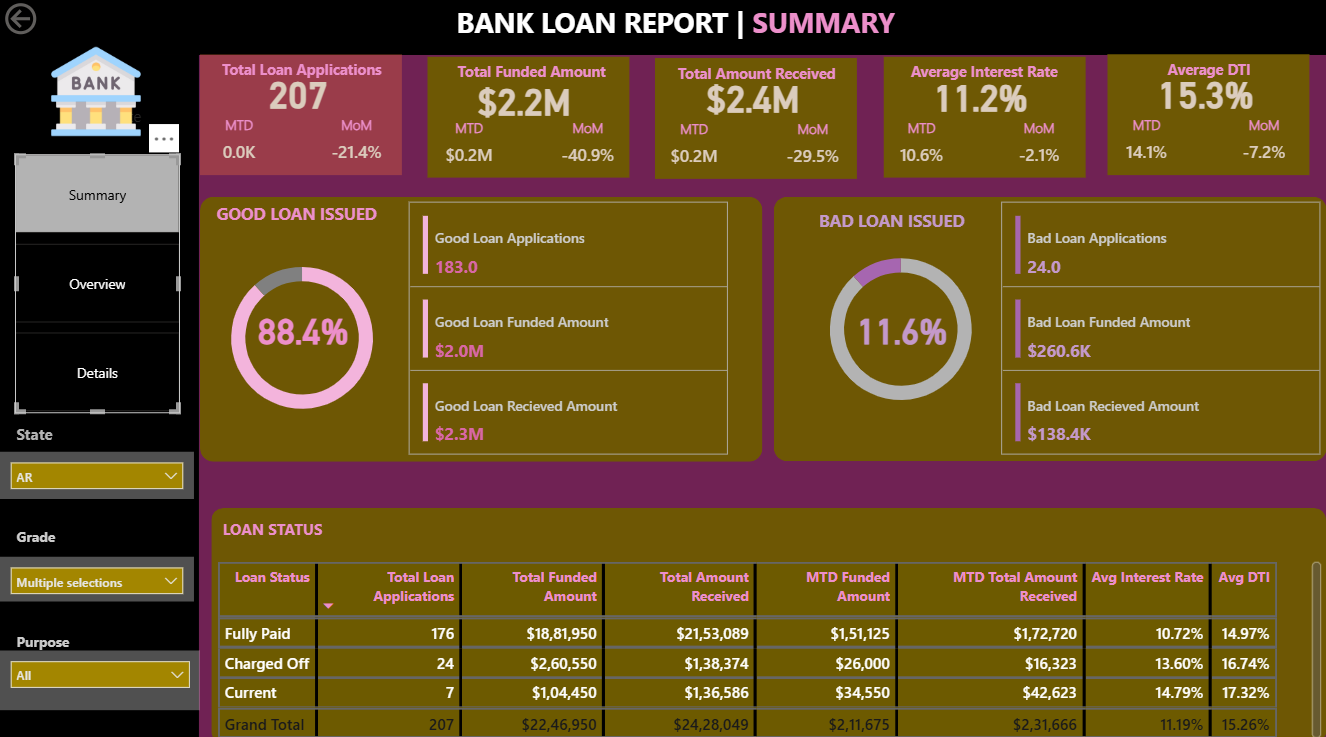

What the dashboard file says about the page in this screenshot:
{"tool":"powerbi","page":{"name":"Summary","canvas":[1280,720],"ordinal":0},"visuals":[{"type":"shape","box":[193.5,54.9,194.9,116.6],"z":0,"group":"g1"},{"type":"shape","box":[1069,54.9,194.9,116.6],"z":0,"group":"g5"},{"type":"shape","box":[412.5,56.3,194.9,116.6],"z":0,"group":"g2"},{"type":"shape","box":[852.9,56.3,194.9,116.6],"z":0,"group":"g3"},{"type":"shape","box":[632.6,57.8,194.9,116.6],"z":0,"group":"g4"},{"type":"shape","box":[746.5,192.1,533.8,255.2],"z":0},{"type":"card","fields":{"Values":["bank_loan_data.Total Loan Applications"]},"box":[193.5,54.9,189.4,74.1],"z":1000,"group":"g1"},{"type":"card","fields":{"Values":["bank_loan_data.Avg DTI"]},"box":[1069,54.9,189.4,74.1],"z":1000,"group":"g5"},{"type":"card","fields":{"Values":["bank_loan_data.Avg Interest Rate"]},"box":[851.5,56.3,189.4,74.1],"z":1000,"group":"g3"},{"type":"card","fields":{"Values":["bank_loan_data.Total Amount Received"]},"box":[633.2,57.6,189.4,74.1],"z":1000,"group":"g4"},{"type":"card","fields":{"Values":["bank_loan_data.Total Funded Amount"]},"box":[411,60.1,189.4,74.1],"z":1000,"group":"g2"},{"type":"shape","box":[193,191.8,542.9,255.8],"z":1000},{"type":"shape","box":[0,0,1280.3,55],"z":2000},{"type":"textbox","box":[193.5,54.9,196.2,34.3],"z":2000,"group":"g1"},{"type":"textbox","box":[1069,54.9,196.2,34.3],"z":2000,"group":"g5"},{"type":"textbox","box":[415.2,56.3,196.2,34.3],"z":2000,"group":"g2"},{"type":"textbox","box":[851.5,56.3,196.2,34.3],"z":2000,"group":"g3"},{"type":"textbox","box":[633.2,57.6,196.2,34.3],"z":2000,"group":"g4"},{"type":"shape","box":[0,54.9,192,665.5],"z":3000},{"type":"card","title":"MTD","fields":{"Values":["bank_loan_data.MTD Loan Applications"]},"box":[193.5,113.9,75.5,57.6],"z":3000,"group":"g1"},{"type":"card","title":"MTD","fields":{"Values":["bank_loan_data.MTD Avg DTI"]},"box":[1069,113.9,75.5,57.6],"z":3000,"group":"g5"},{"type":"card","title":"MTD","fields":{"Values":["bank_loan_data.MTD Funded Amount"]},"box":[415.2,115.3,75.5,57.6],"z":3000,"group":"g2"},{"type":"card","title":"MTD","fields":{"Values":["bank_loan_data.MTD Avg Int Rate"]},"box":[851.5,115.3,75.5,57.6],"z":3000,"group":"g3"},{"type":"card","title":"MTD","fields":{"Values":["bank_loan_data.MTD Total Amount Received"]},"box":[633.2,116.6,75.5,57.6],"z":3000,"group":"g4"},{"type":"card","title":"MoM","fields":{"Values":["bank_loan_data.MoM Loan Applications"]},"box":[307.4,113.9,75.5,57.6],"z":4000,"group":"g1"},{"type":"card","title":"MoM","fields":{"Values":["bank_loan_data.MoM Avg DTI"]},"box":[1182.9,113.9,75.5,57.6],"z":4000,"group":"g5"},{"type":"card","title":"MoM","fields":{"Values":["bank_loan_data.MoM Total Funded Amount"]},"box":[529.1,115.3,75.5,57.6],"z":4000,"group":"g2"},{"type":"card","title":"MoM","fields":{"Values":["bank_loan_data.MoM Avg Int Rate"]},"box":[965.4,115.3,75.5,57.6],"z":4000,"group":"g3"},{"type":"card","title":"MoM","fields":{"Values":["bank_loan_data.MoM Total Amount Received"]},"box":[747.1,116.6,75.5,57.6],"z":4000,"group":"g4"},{"type":"card","fields":{"Values":["bank_loan_data.Good Loan %"]},"box":[237.4,299.1,109.8,41.2],"z":4000},{"type":"textbox","box":[435,0,455.6,46.7],"z":5000},{"type":"group","id":"g1","title":"Group 1","box":[193.5,54.9,196.2,116.6],"z":6000},{"type":"group","id":"g2","title":"Group 1","box":[411,56.3,200.3,116.6],"z":7000},{"type":"group","id":"g3","title":"Group 1","box":[851.5,56.3,196.2,116.6],"z":8000},{"type":"actionButton","box":[0,0,100,40],"z":9000},{"type":"group","id":"g4","title":"Group 1","box":[632.6,57.6,197.6,116.6],"z":10000},{"type":"group","id":"g5","title":"Group 1","box":[1069,54.9,196.2,116.6],"z":11000},{"type":"donutChart","fields":{"Category":["bank_loan_data.Good vs Bad Loan"],"Y":["bank_loan_data.Total Loan Applications"]},"box":[168.8,237.4,245.6,181.1],"z":12000},{"type":"textbox","box":[204.5,192.1,230.5,45.3],"z":13000},{"type":"cardVisual","fields":{"Data":["bank_loan_data.Good Loan Applications","bank_loan_data.Good Loan Funded Amount","bank_loan_data.Good Loan Recieved Amount"]},"box":[389.7,192.1,318.4,255.2],"z":14000},{"type":"donutChart","fields":{"Category":["bank_loan_data.Good vs Bad Loan"],"Y":["bank_loan_data.Total Loan Applications"]},"box":[746.5,229.2,245.6,181.1],"z":15000},{"type":"card","fields":{"Values":["bank_loan_data.Bad Loan %"]},"box":[815.1,299.1,109.8,41.2],"z":16000},{"type":"cardVisual","fields":{"Data":["bank_loan_data.Bad Loan Applications","bank_loan_data.Bad Loan Funded Amount","bank_loan_data.Bad Loan Recieved Amount"]},"box":[961.9,192.1,318.4,255.2],"z":17000},{"type":"textbox","box":[784.9,199,196.2,61.7],"z":18000},{"type":"shape","box":[203.9,492.2,1076.1,228],"z":19000},{"type":"tableEx","fields":{"Values":["bank_loan_data.loan_status","bank_loan_data.Total Loan Applications","bank_loan_data.Total Funded Amount","bank_loan_data.Total Amount Received","bank_loan_data.MTD Funded Amount","bank_loan_data.MTD Total Amount Received","bank_loan_data.Avg Interest Rate","bank_loan_data.Avg DTI"]},"box":[203.9,539.3,1076.1,181],"z":20000},{"type":"textbox","box":[209.9,497.1,219.6,42.2],"z":21000},{"type":"slicer","fields":{"Values":["bank_loan_data.address_state"]},"box":[0,437.9,187,45.8],"z":22000},{"type":"textbox","box":[100,100,300,300],"z":23000},{"type":"slicer","fields":{"Values":["bank_loan_data.grade"]},"box":[0,539.3,187,43.4],"z":24000},{"type":"slicer","fields":{"Values":["bank_loan_data.purpose"]},"box":[0,629.8,193,57.9],"z":25000},{"type":"textbox","box":[10.9,405.4,103.8,42.2],"z":26000},{"type":"textbox","box":[10.9,606.8,131.5,45.8],"z":27000},{"type":"textbox","box":[10.9,505.5,207.5,42.2],"z":28000},{"type":"pageNavigator","box":[14.5,150.8,159.3,249.7],"z":29000},{"type":"image","box":[42.2,42.2,100.1,96.5],"z":30000}]}

Visuals, with their boxes on the page's 1280x720 design canvas (x1, y1, x2, y2). These are canvas units, not pixel positions in the 1326x737 screenshot, which may show the page scaled, cropped or inside an application window:
shape: <bbox>194, 55, 388, 172</bbox>
shape: <bbox>1069, 55, 1264, 172</bbox>
shape: <bbox>412, 56, 607, 173</bbox>
shape: <bbox>853, 56, 1048, 173</bbox>
shape: <bbox>633, 58, 828, 174</bbox>
shape: <bbox>746, 192, 1280, 447</bbox>
card - bank_loan_data.Total Loan Applications: <bbox>194, 55, 383, 129</bbox>
card - bank_loan_data.Avg DTI: <bbox>1069, 55, 1258, 129</bbox>
card - bank_loan_data.Avg Interest Rate: <bbox>852, 56, 1041, 130</bbox>
card - bank_loan_data.Total Amount Received: <bbox>633, 58, 823, 132</bbox>
card - bank_loan_data.Total Funded Amount: <bbox>411, 60, 600, 134</bbox>
shape: <bbox>193, 192, 736, 448</bbox>
shape: <bbox>0, 0, 1280, 55</bbox>
textbox: <bbox>194, 55, 390, 89</bbox>
textbox: <bbox>1069, 55, 1265, 89</bbox>
textbox: <bbox>415, 56, 611, 91</bbox>
textbox: <bbox>852, 56, 1048, 91</bbox>
textbox: <bbox>633, 58, 829, 92</bbox>
shape: <bbox>0, 55, 192, 720</bbox>
"MTD" card: <bbox>194, 114, 269, 172</bbox>
"MTD" card: <bbox>1069, 114, 1144, 172</bbox>
"MTD" card: <bbox>415, 115, 491, 173</bbox>
"MTD" card: <bbox>852, 115, 927, 173</bbox>
"MTD" card: <bbox>633, 117, 709, 174</bbox>
"MoM" card: <bbox>307, 114, 383, 172</bbox>
"MoM" card: <bbox>1183, 114, 1258, 172</bbox>
"MoM" card: <bbox>529, 115, 605, 173</bbox>
"MoM" card: <bbox>965, 115, 1041, 173</bbox>
"MoM" card: <bbox>747, 117, 823, 174</bbox>
card - bank_loan_data.Good Loan %: <bbox>237, 299, 347, 340</bbox>
textbox: <bbox>435, 0, 891, 47</bbox>
"Group 1" group: <bbox>194, 55, 390, 172</bbox>
"Group 1" group: <bbox>411, 56, 611, 173</bbox>
"Group 1" group: <bbox>852, 56, 1048, 173</bbox>
actionButton: <bbox>0, 0, 100, 40</bbox>
"Group 1" group: <bbox>633, 58, 830, 174</bbox>
"Group 1" group: <bbox>1069, 55, 1265, 172</bbox>
donutChart - bank_loan_data.Good vs Bad Loan x bank_loan_data.Total Loan Applications: <bbox>169, 237, 414, 418</bbox>
textbox: <bbox>204, 192, 435, 237</bbox>
cardVisual - bank_loan_data.Good Loan Applications x bank_loan_data.Good Loan Funded Amount: <bbox>390, 192, 708, 447</bbox>
donutChart - bank_loan_data.Good vs Bad Loan x bank_loan_data.Total Loan Applications: <bbox>746, 229, 992, 410</bbox>
card - bank_loan_data.Bad Loan %: <bbox>815, 299, 925, 340</bbox>
cardVisual - bank_loan_data.Bad Loan Applications x bank_loan_data.Bad Loan Funded Amount: <bbox>962, 192, 1280, 447</bbox>
textbox: <bbox>785, 199, 981, 261</bbox>
shape: <bbox>204, 492, 1280, 720</bbox>
tableEx - bank_loan_data.loan_status x bank_loan_data.Total Loan Applications: <bbox>204, 539, 1280, 720</bbox>
textbox: <bbox>210, 497, 430, 539</bbox>
slicer - bank_loan_data.address_state: <bbox>0, 438, 187, 484</bbox>
textbox: <bbox>100, 100, 400, 400</bbox>
slicer - bank_loan_data.grade: <bbox>0, 539, 187, 583</bbox>
slicer - bank_loan_data.purpose: <bbox>0, 630, 193, 688</bbox>
textbox: <bbox>11, 405, 115, 448</bbox>
textbox: <bbox>11, 607, 142, 653</bbox>
textbox: <bbox>11, 506, 218, 548</bbox>
pageNavigator: <bbox>14, 151, 174, 400</bbox>
image: <bbox>42, 42, 142, 139</bbox>
